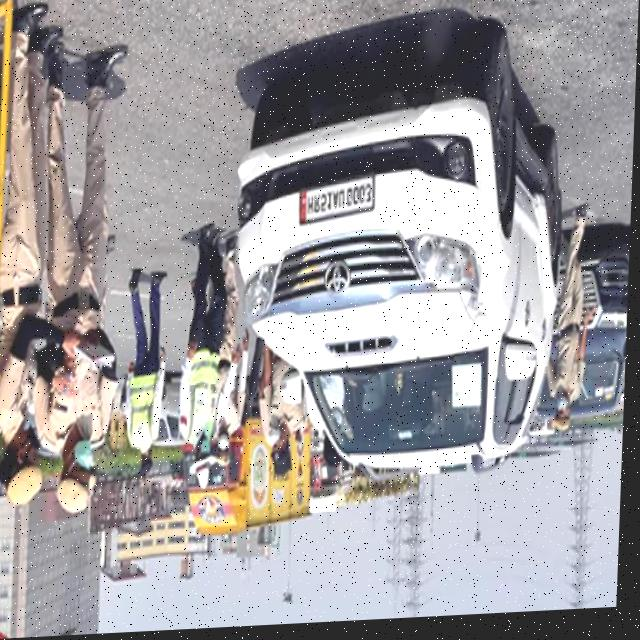plate: (299, 180, 378, 229)
